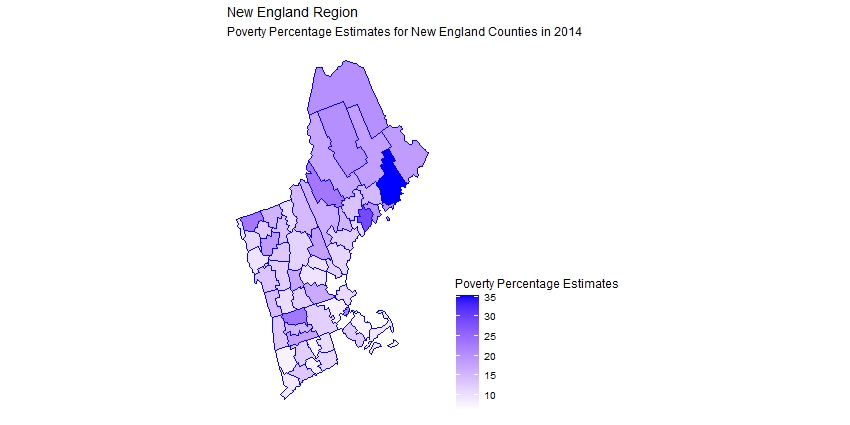

Layout of this report page (visuals, bound fields, positions):
{"tool":"tableau","page":{"name":"microclimate clustering","canvas":[1000,800],"ordinal":0},"visuals":[{"type":"worksheet","title":"microclimate","mark":"Multipolygon","box":[79,71,835,630]},{"type":"legend","title":"microclimate","param":"[federated.1pjx4zt0tdre2y18sq6dv0k7s1um].[none:AdhocCluster:2:ok]","box":[793,400,140,178]}]}

Visuals, with their boxes on the page's 1000x800 design canvas (x1, y1, x2, y2). These are canvas units, not pixel positions in the 850x425 screenshot, which may show the page scaled, cropped or inside an application window:
"microclimate" worksheet (Multipolygon marks): bbox=[79, 71, 914, 701]
"microclimate" legend: bbox=[793, 400, 933, 578]
